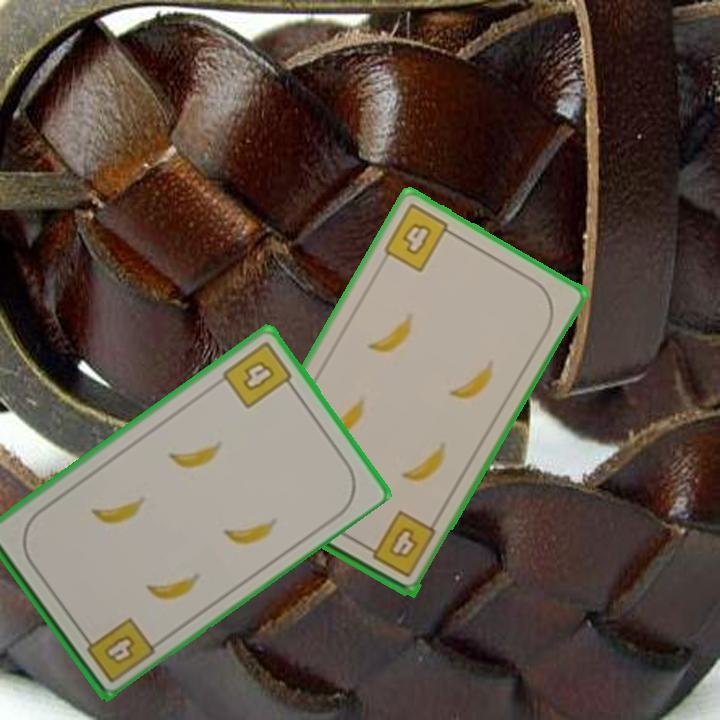4b: (379, 199, 460, 275), (218, 337, 299, 411), (359, 507, 439, 580), (78, 613, 158, 686)
